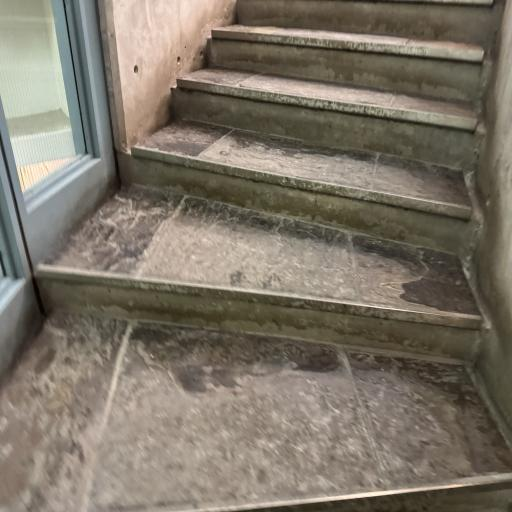Stairs: (36, 0, 512, 512), (38, 186, 481, 360), (124, 122, 475, 252), (173, 69, 483, 169), (211, 25, 489, 105)
